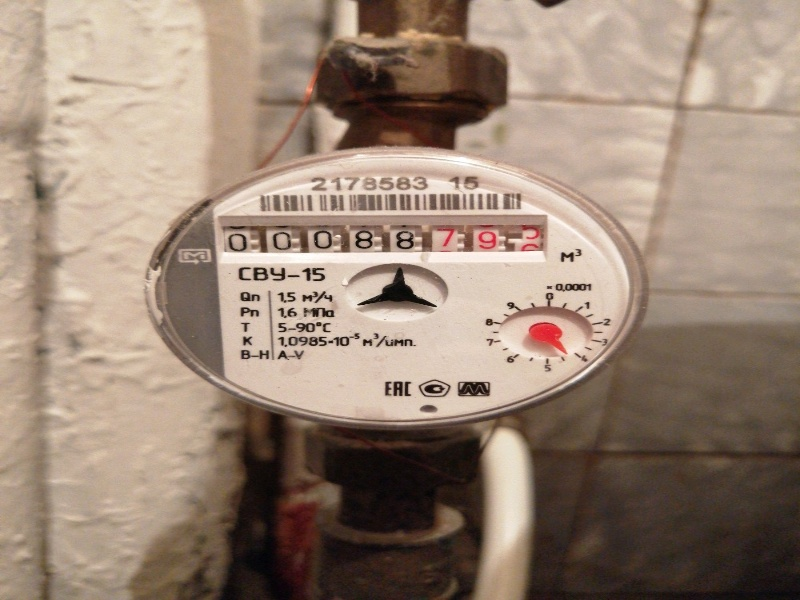meter: (211, 220, 549, 261)
